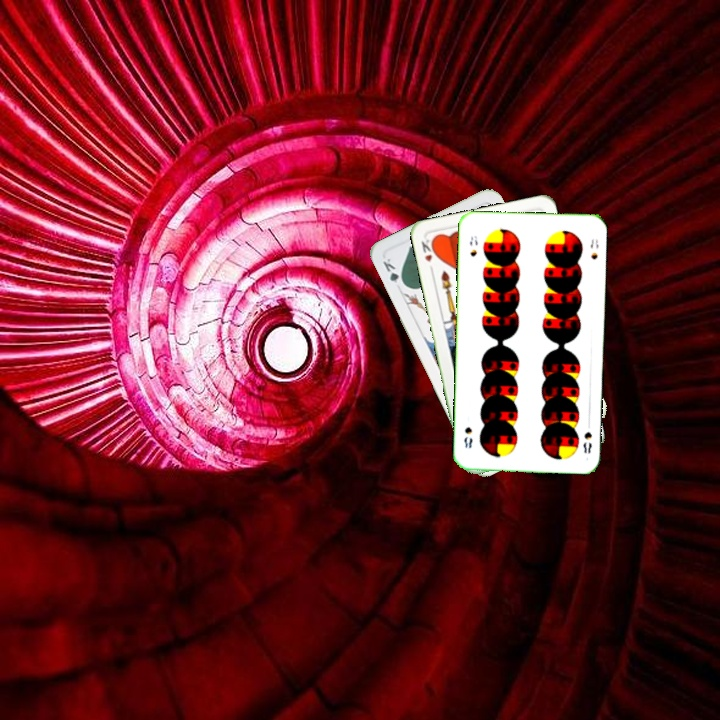GK: (379, 254, 408, 289)
HK: (417, 234, 439, 265)
S8: (579, 428, 594, 456), (466, 232, 480, 259)
